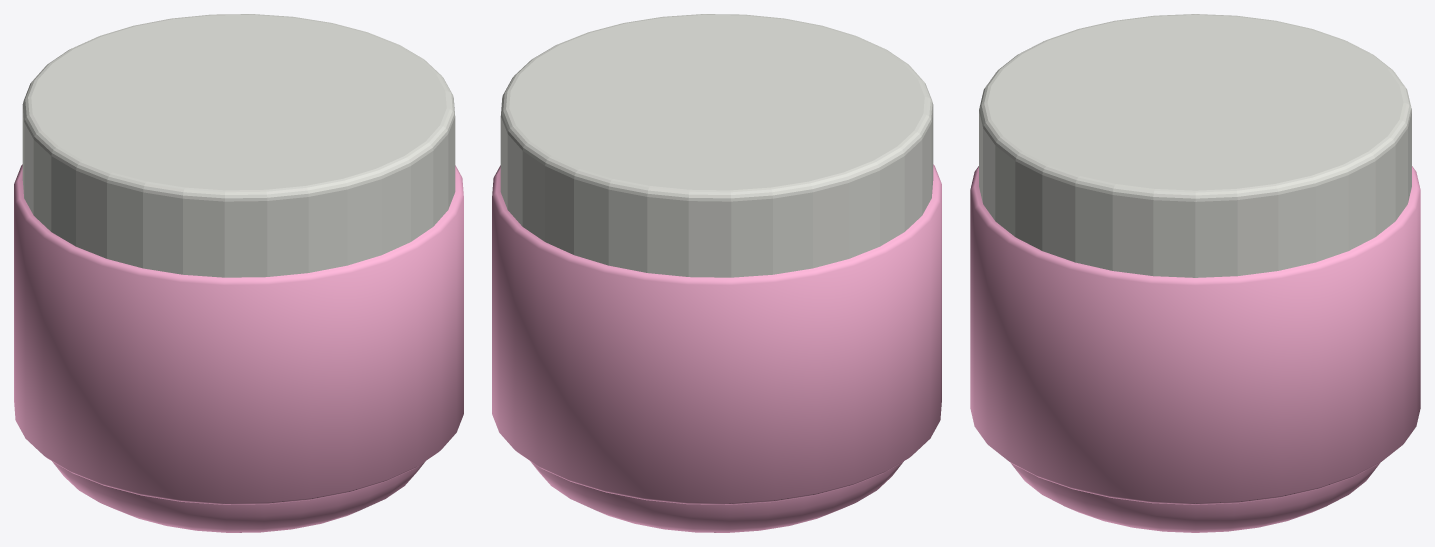
File: Relaxer cup.glb
3 renders of one model, left to right at view 1: azimuth 30°, elevation 25°; view 2: azimuth 150°, elevation 25°; view 3: azimuth 270°, elevation 25°, orthographic.
Visible parts, largest first — view 1: Circle, Circle.001; view 2: Circle, Circle.001; view 3: Circle, Circle.001.
Boxes of the visible parts, x1,y1,x2,y2 form: Circle: (14,164,463,532); Circle.001: (22,14,455,277); Circle: (492,164,941,532); Circle.001: (500,14,933,277); Circle: (970,166,1420,532); Circle.001: (979,14,1411,277).
Size of the model in its own units: 2.9 by 2.64 by 2.9.
Materials: 2 (2 with a texture image).
